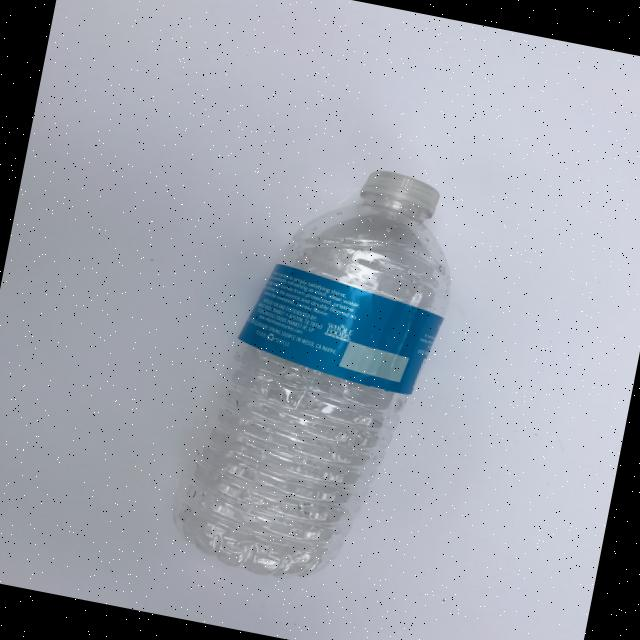plastic: (161, 142, 472, 600)
